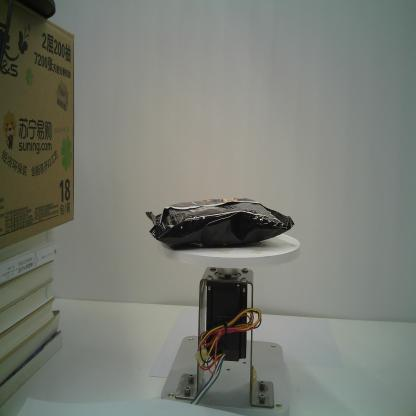Instant Noodles: (145, 197, 294, 250)
